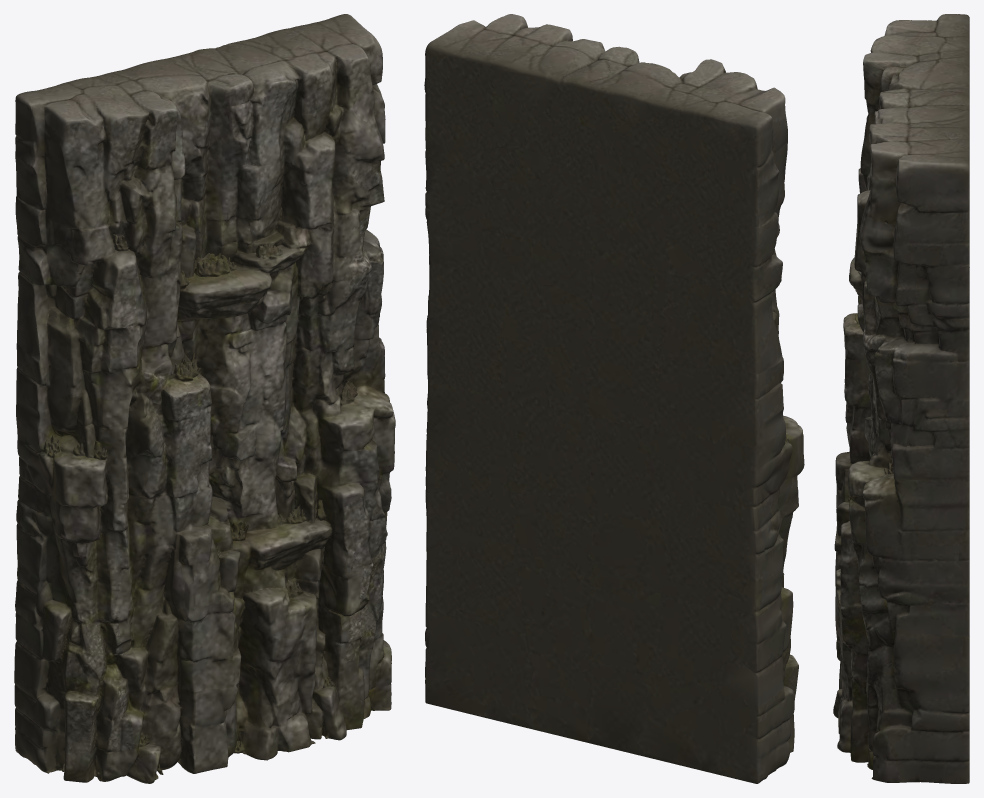
Rendered from Meshy_AI_cliff_vertical_a_0823030705_image-to-3d-texture.glb.
3 renders of one model, left to right at view 1: azimuth 30°, elevation 25°; view 2: azimuth 150°, elevation 25°; view 3: azimuth 270°, elevation 25°, orthographic. The views are drawn at different scales.
Visible parts, largest first — view 1: mesh_node; view 2: mesh_node; view 3: mesh_node.
Part boxes in pixels (box(x1,y1,x2,y2)): mesh_node: box(14, 14, 395, 783); mesh_node: box(424, 14, 804, 783); mesh_node: box(833, 14, 969, 783).
Size of the model in its own units: 1.03 by 1.9 by 0.3804.
Materials: 1 (1 with a texture image).
